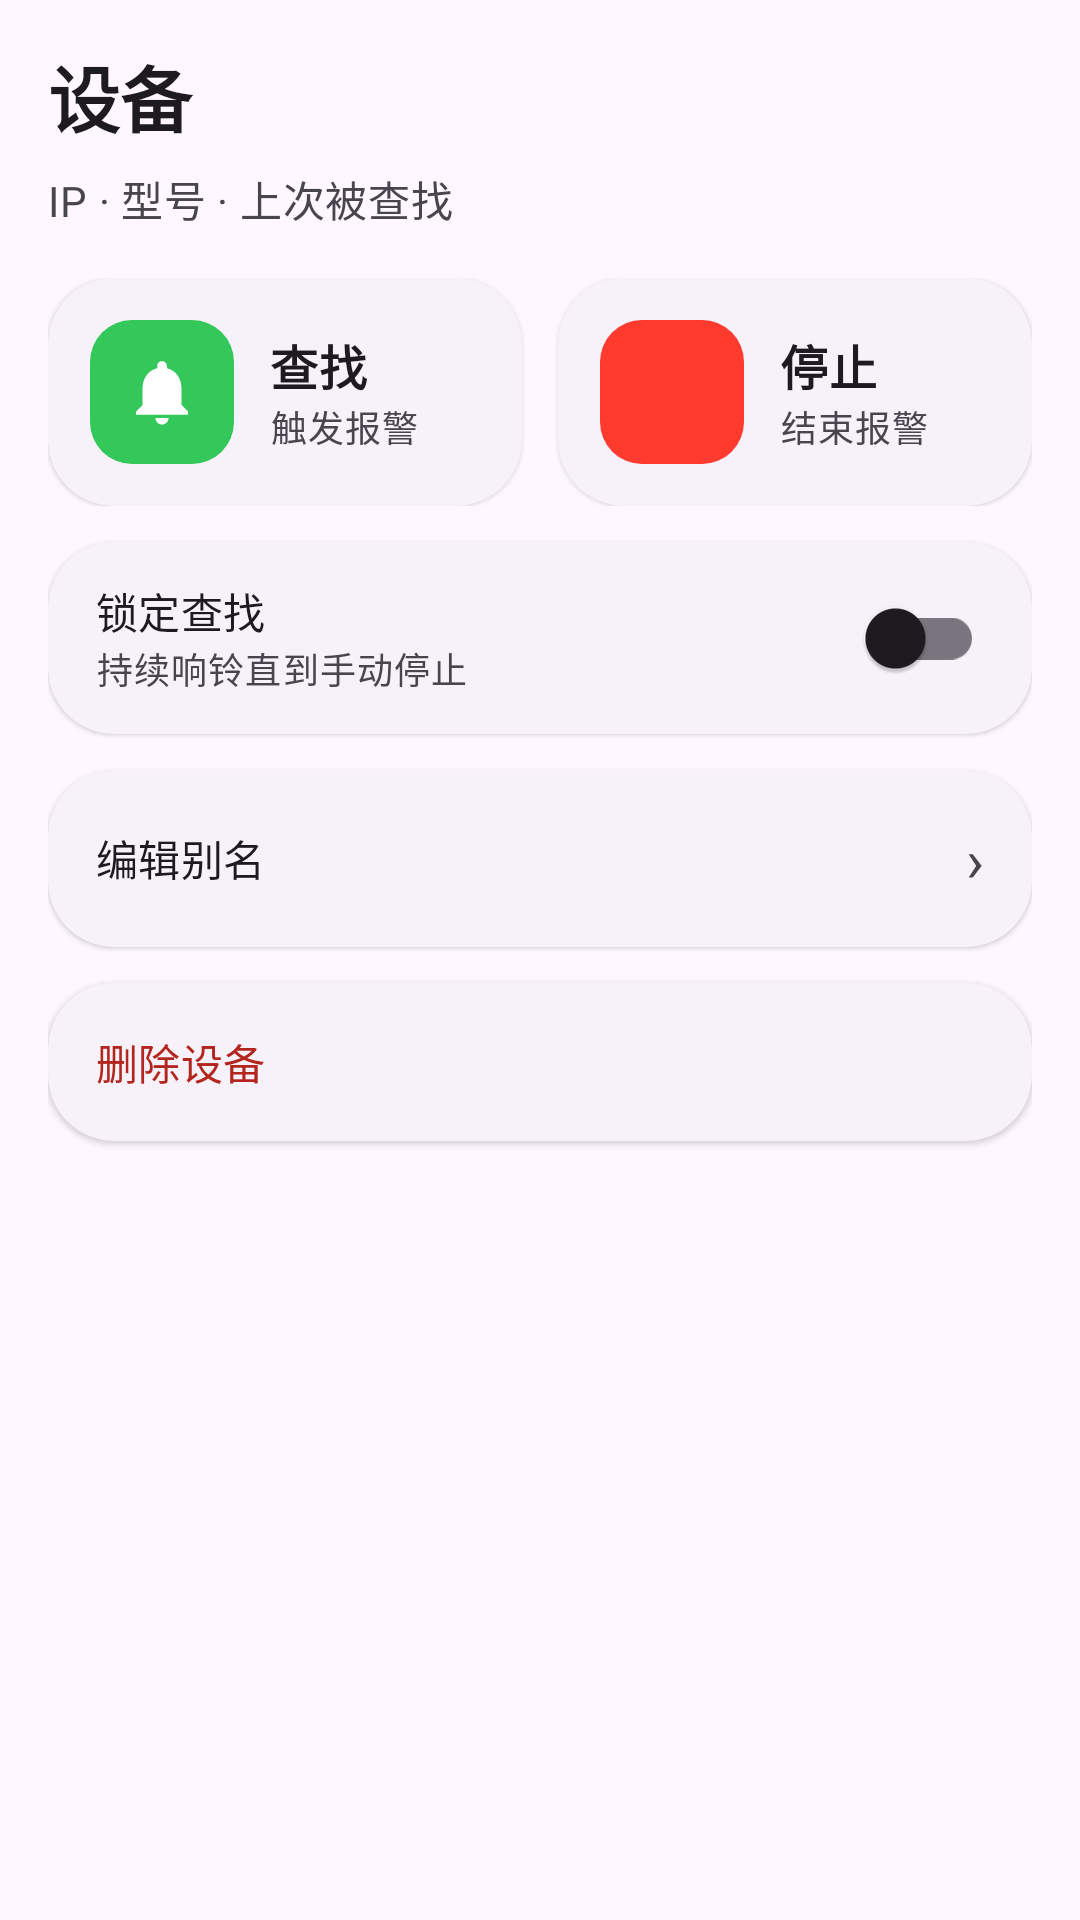

Locate icon controls on the screen. Image size 1080×1920, boxes as box=[x1, y1, x2, y2].
bell: box=[90, 320, 234, 464]
